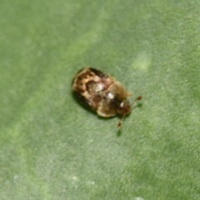insect: (72, 67, 141, 135)
